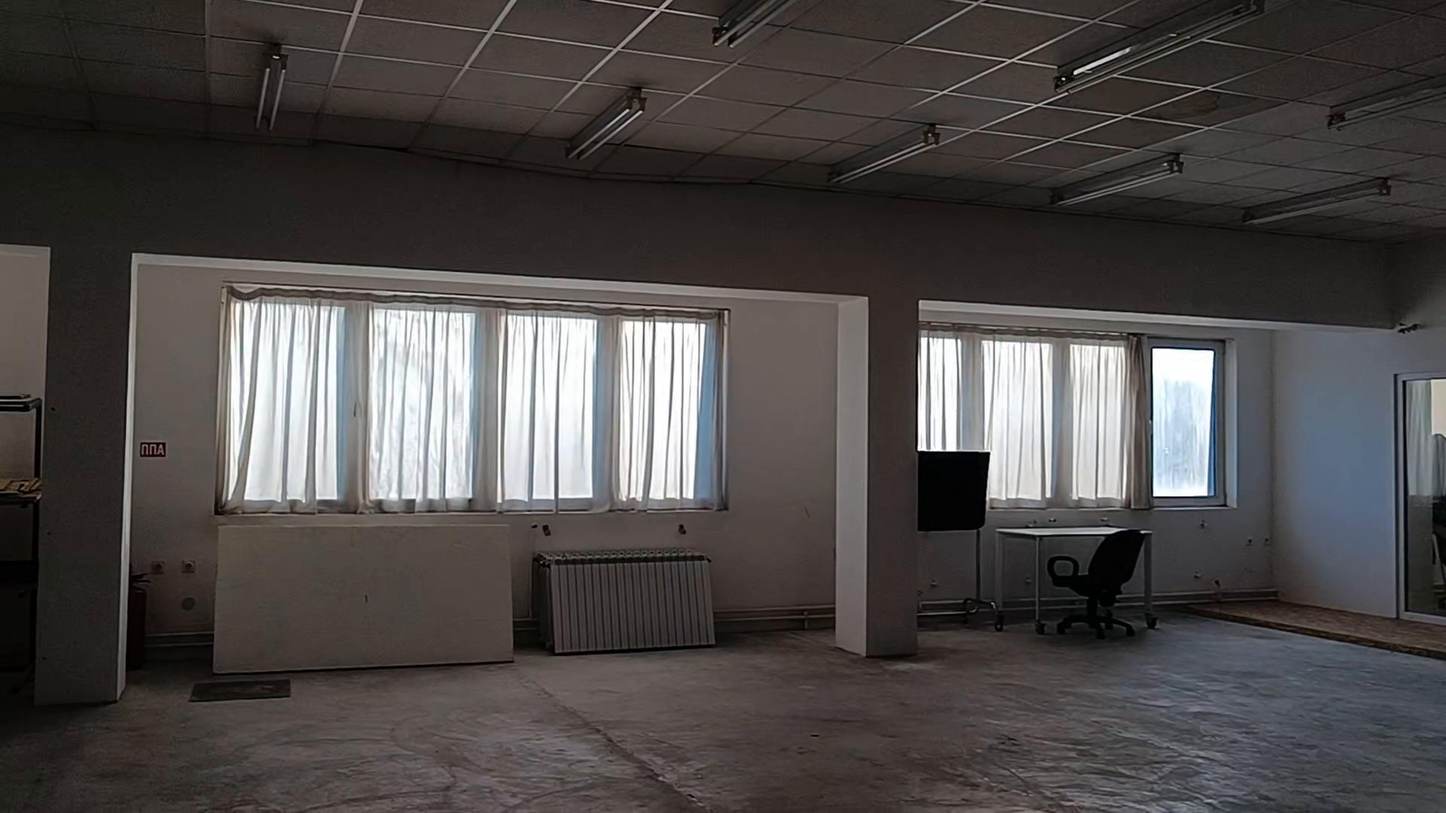ceiling: (0, 0, 1445, 237)
floor: (0, 617, 1445, 812)
wall: (0, 124, 1396, 701), (1161, 245, 1438, 615), (535, 302, 836, 606), (148, 280, 218, 600)
